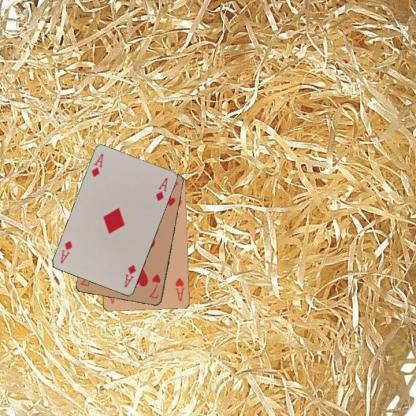7h: (147, 271, 162, 300)
Ad: (122, 262, 138, 290), (89, 152, 105, 178)
Ah: (172, 275, 186, 302)
